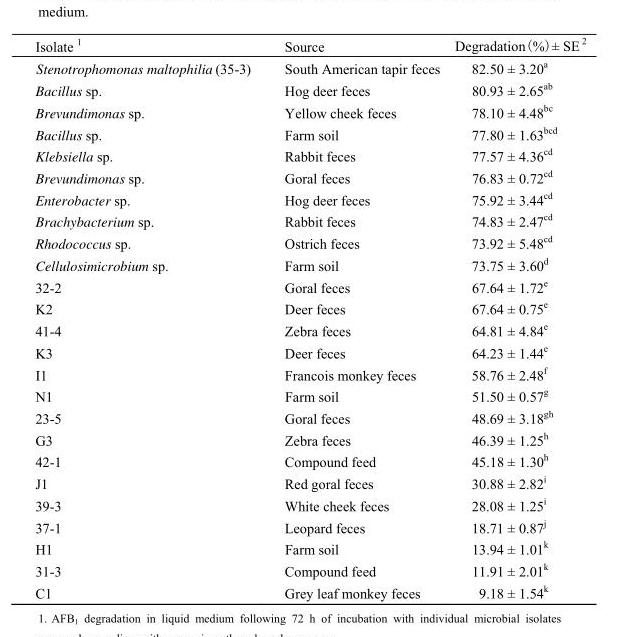table: (34, 34, 585, 600)
table column: (34, 34, 266, 600), (266, 34, 446, 600), (446, 34, 585, 600)
table column header: (34, 34, 585, 55)
table row: (34, 55, 585, 78), (34, 78, 585, 100), (34, 100, 585, 122), (34, 122, 585, 144), (34, 165, 585, 187), (34, 187, 585, 209), (34, 209, 585, 231), (34, 231, 585, 253), (34, 253, 585, 275), (34, 296, 585, 318), (34, 318, 585, 340), (34, 340, 585, 362), (34, 362, 585, 384), (34, 405, 585, 427), (34, 427, 585, 449), (34, 449, 585, 471), (34, 471, 585, 493), (34, 493, 585, 515), (34, 536, 585, 558), (34, 558, 585, 580), (34, 34, 585, 55), (34, 144, 585, 165), (34, 275, 585, 296), (34, 384, 585, 405), (34, 515, 585, 536), (34, 580, 585, 600)
